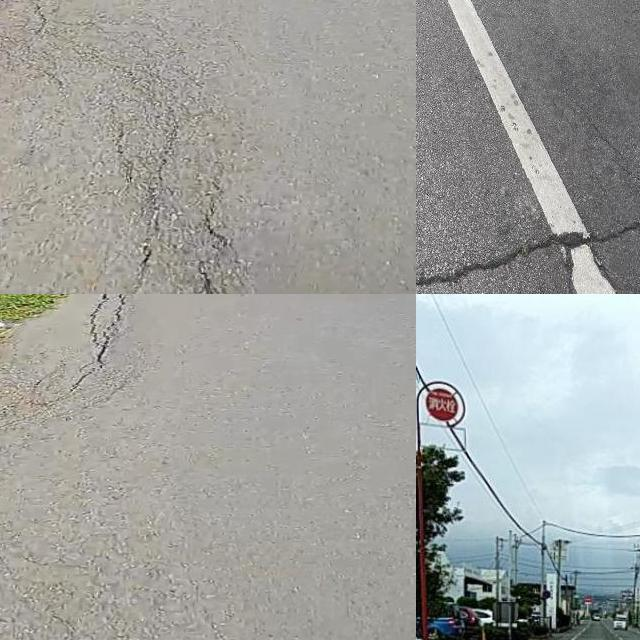Melintang: (416, 205, 640, 294)
Pinggir: (0, 294, 148, 412)
